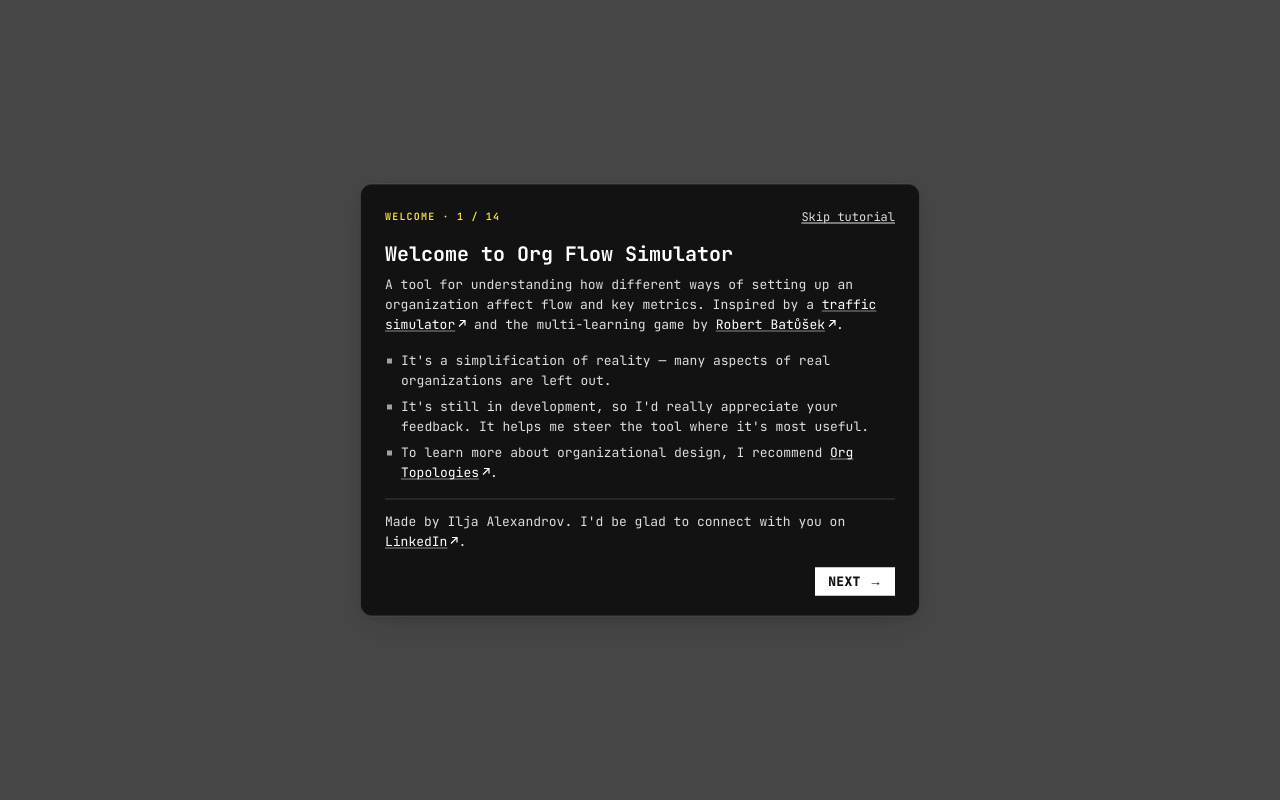
it: feat-025 Příklad 18: patička o autorovi na úvodní kartě › krok 2 Compare patičku nemá
The width and height of the screenshot is (1280, 800).
Click the button "Next →" at (855, 582), box x1=815 y1=568 x2=895 y2=596
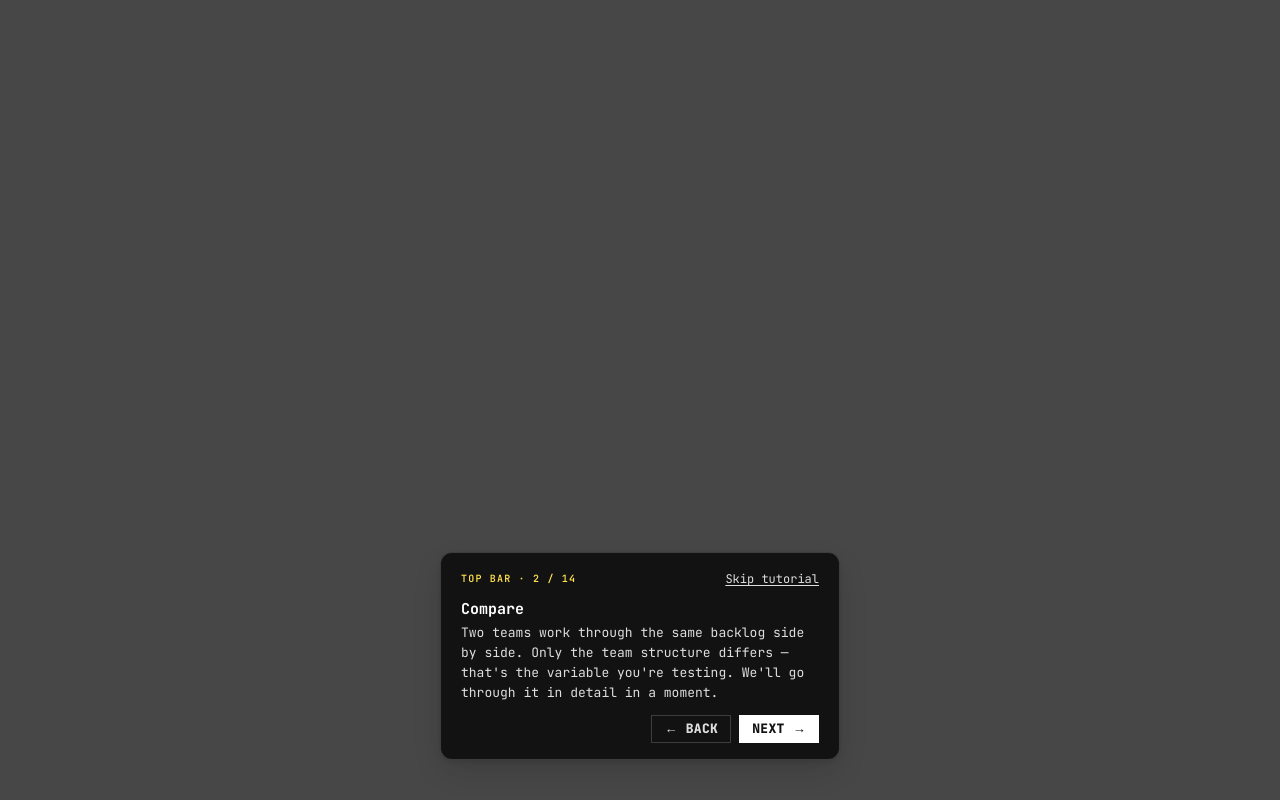
Expected: the text "TOP BAR · 2 / 14" is shown, x1=461 y1=573 x2=576 y2=585
